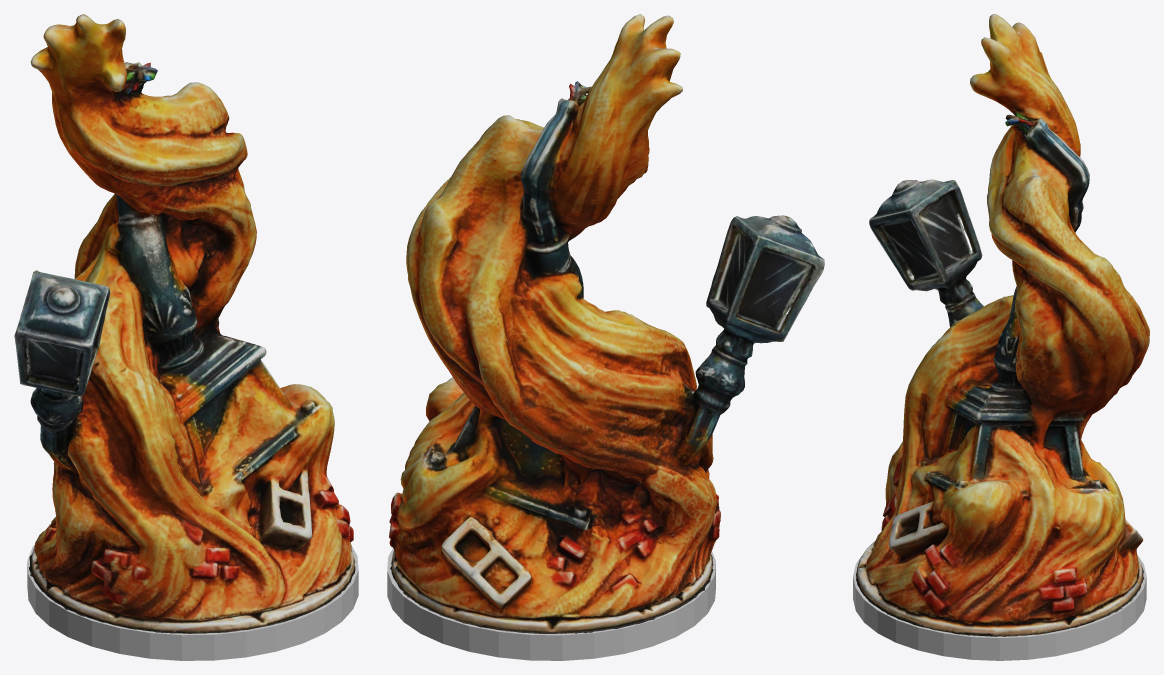
3 renders of one model, left to right at view 1: azimuth 30°, elevation 25°; view 2: azimuth 150°, elevation 25°; view 3: azimuth 270°, elevation 25°, orthographic. The views are drawn at different scales.
Parts seen in each view (by area): view 1: default (×2); view 2: default (×2); view 3: default (×2).
Part boxes in pixels (x1,y1,x2,y2): default (×2): [14, 14, 358, 660]; default (×2): [387, 14, 824, 660]; default (×2): [853, 14, 1149, 660].
Bounding box in the file's own units: 1.77 × 2.77 × 1.39.
2 materials, 1 textured.
